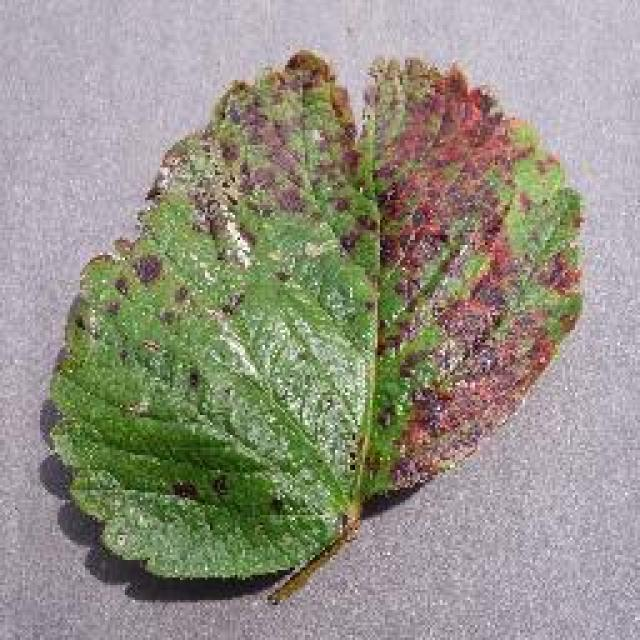Strawberry leaf scorch: (202, 114, 545, 428)
